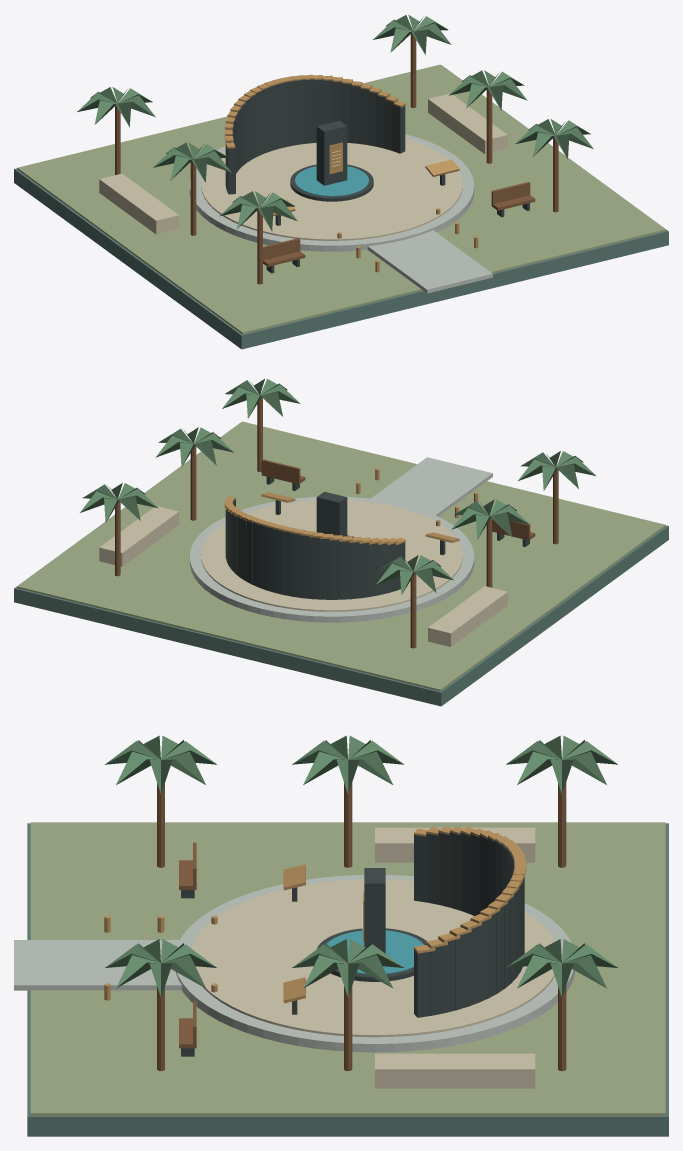
3 views of the same model, one above another, from view 1: azimuth 30°, elevation 25°; view 2: azimuth 150°, elevation 25°; view 3: azimuth 270°, elevation 25° (orthographic). The views are drawn at different scales.
Visible parts, largest first — view 1: Grass | batched geometry, Sandstone | batched geometry, Charcoal | batched geometry, Plinth | batched geometry, Leaf | batched geometry, Stone | batched geometry, Timber | batched geometry, Bronze | batched geometry, Water | batched geometry; view 2: Grass | batched geometry, Sandstone | batched geometry, Charcoal | batched geometry, Plinth | batched geometry, Stone | batched geometry, Leaf | batched geometry, Timber | batched geometry, Bronze | batched geometry; view 3: Grass | batched geometry, Sandstone | batched geometry, Charcoal | batched geometry, Leaf | batched geometry, Plinth | batched geometry, Stone | batched geometry, Timber | batched geometry, Bronze | batched geometry, Water | batched geometry.
Boxes of the visible parts, box(x1,y1,x2,y2) form: Grass | batched geometry: box(17, 64, 665, 334); Sandstone | batched geometry: box(99, 93, 507, 240); Charcoal | batched geometry: box(225, 79, 529, 273); Plinth | batched geometry: box(14, 65, 668, 349); Leaf | batched geometry: box(77, 15, 593, 231); Stone | batched geometry: box(189, 134, 492, 293); Timber | batched geometry: box(115, 30, 558, 284); Bronze | batched geometry: box(224, 74, 478, 272); Water | batched geometry: box(295, 166, 368, 196); Grass | batched geometry: box(17, 421, 665, 691); Sandstone | batched geometry: box(99, 500, 507, 646); Charcoal | batched geometry: box(225, 477, 529, 599); Plinth | batched geometry: box(14, 422, 668, 706); Stone | batched geometry: box(189, 457, 492, 622); Leaf | batched geometry: box(80, 379, 595, 595); Timber | batched geometry: box(115, 394, 558, 648); Bronze | batched geometry: box(224, 468, 478, 545); Grass | batched geometry: box(30, 822, 665, 1115); Sandstone | batched geometry: box(191, 827, 555, 1088); Charcoal | batched geometry: box(181, 832, 524, 1056); Leaf | batched geometry: box(105, 735, 617, 997); Plinth | batched geometry: box(27, 823, 668, 1136); Stone | batched geometry: box(14, 875, 574, 1052); Timber | batched geometry: box(157, 758, 566, 1071); Bronze | batched geometry: box(104, 826, 526, 1003); Water | batched geometry: box(326, 930, 423, 974).
Size of the model in its own units: 20 by 4.44 by 18.85.
